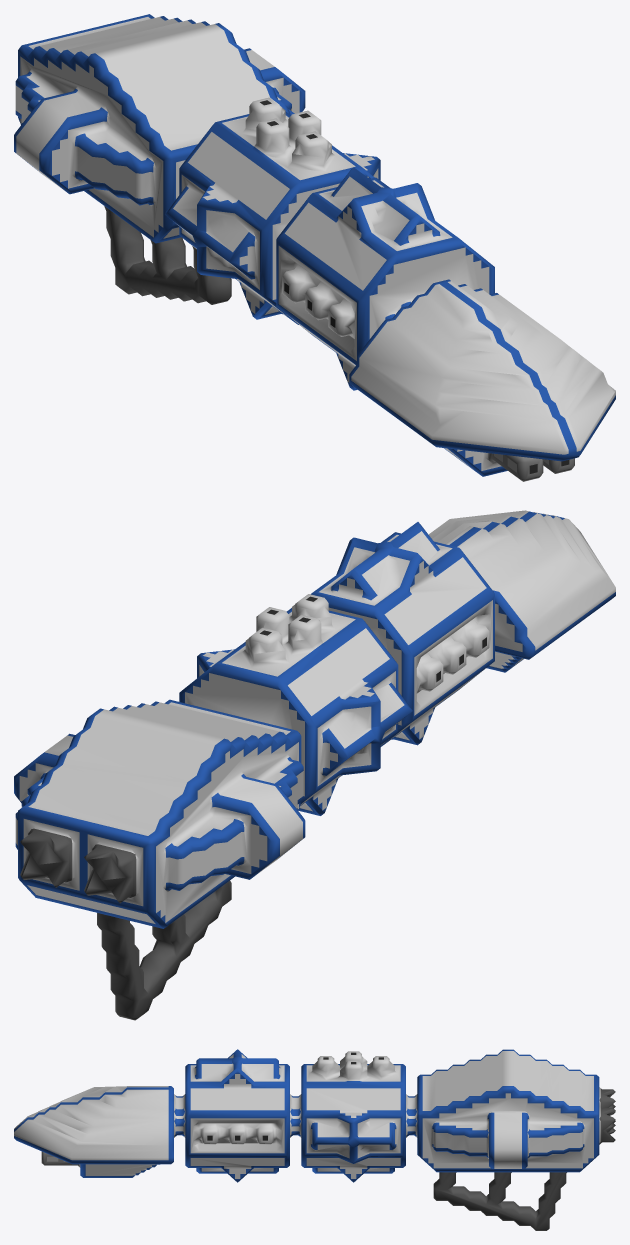
Rendered from diadochi-3-whiro-class.obj.
The picture shows the model from 3 angles, top to bottom: view 1: azimuth 30°, elevation 25°; view 2: azimuth 150°, elevation 25°; view 3: azimuth 270°, elevation 25°; orthographic projection. The views are drawn at different scales.
Bounding box in the file's own units: 33 × 34 × 109.
1 material, 1 textured.
